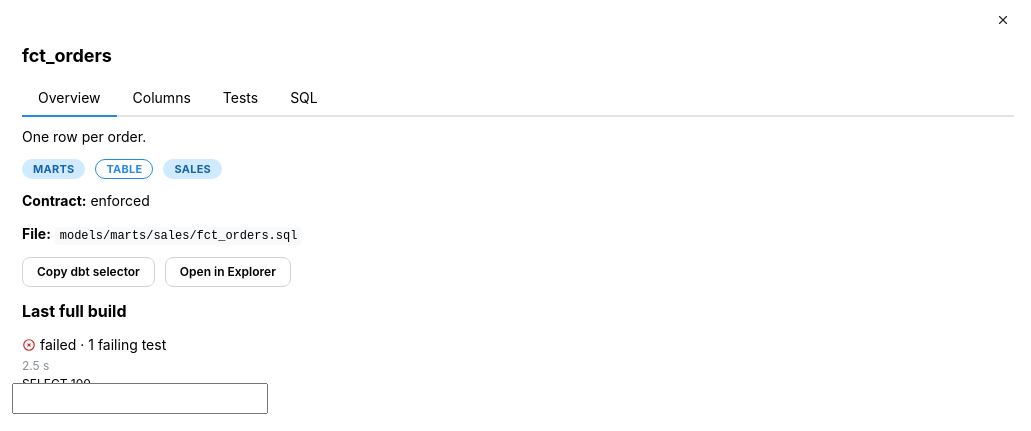
Test: NodePanel › the Columns tab lists kind and resolution
Click the tab "Columns" at (162, 99), box [117, 81, 207, 117]
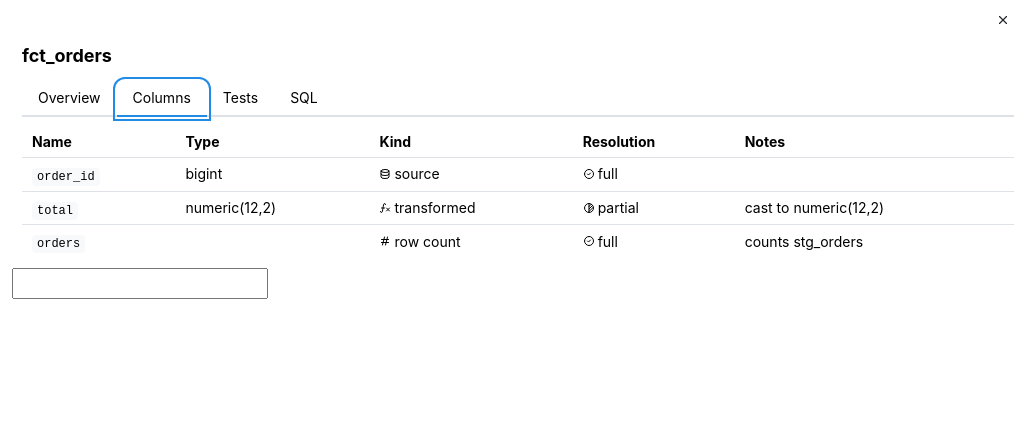
Result: the row "Name Type Kind Resolution Notes" is shown at [22, 127, 1014, 157]
Result: the row "order_id bigint source full" is shown at [22, 157, 1014, 191]
Result: the row that starts with "total" reads "total numeric(12,2) transformed partial cast to numeric(12,2)" at [22, 191, 1014, 225]
